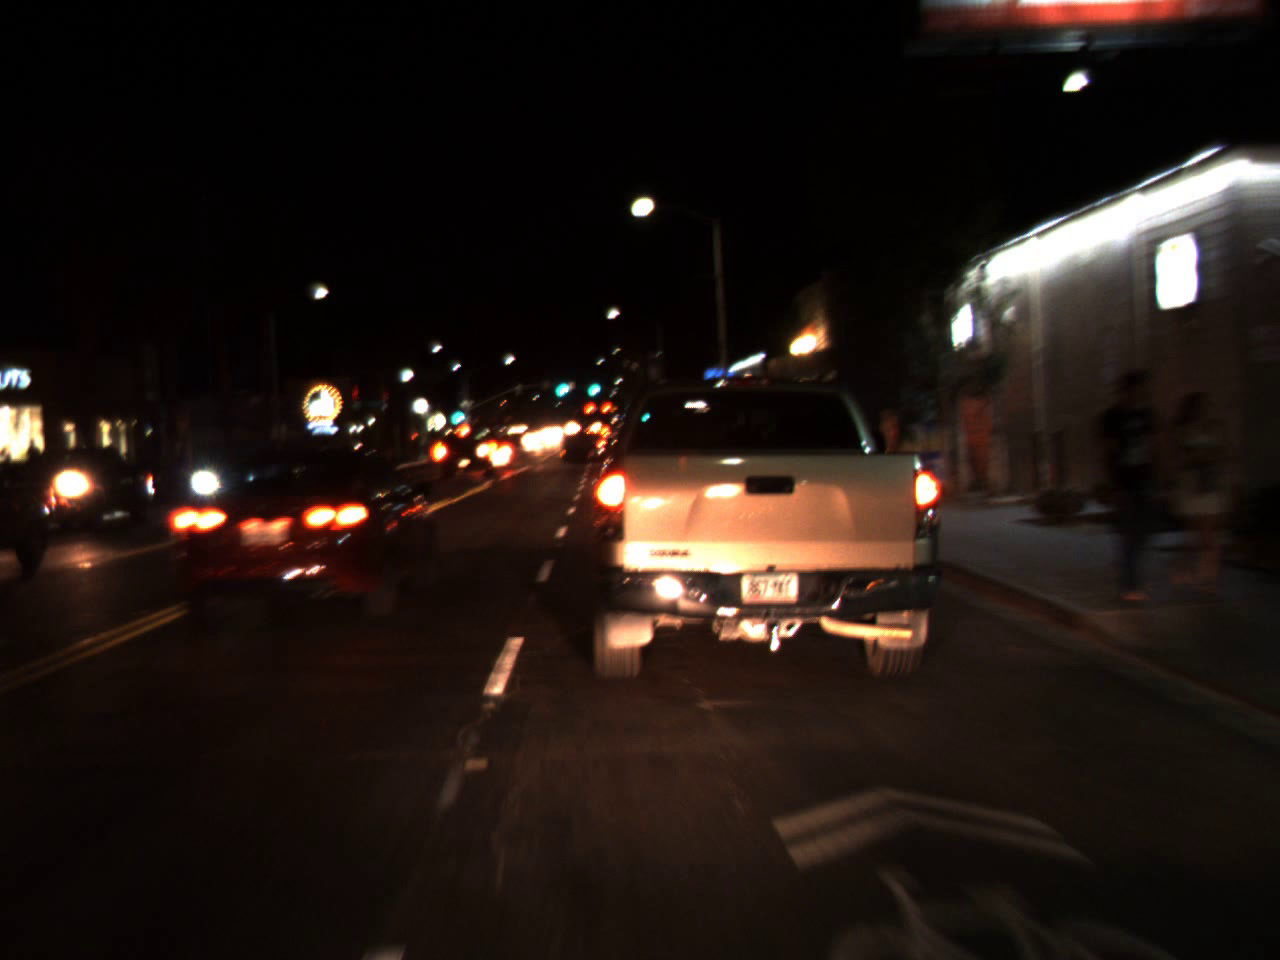go: (550, 366, 571, 402), (446, 394, 467, 430), (582, 368, 603, 401)
